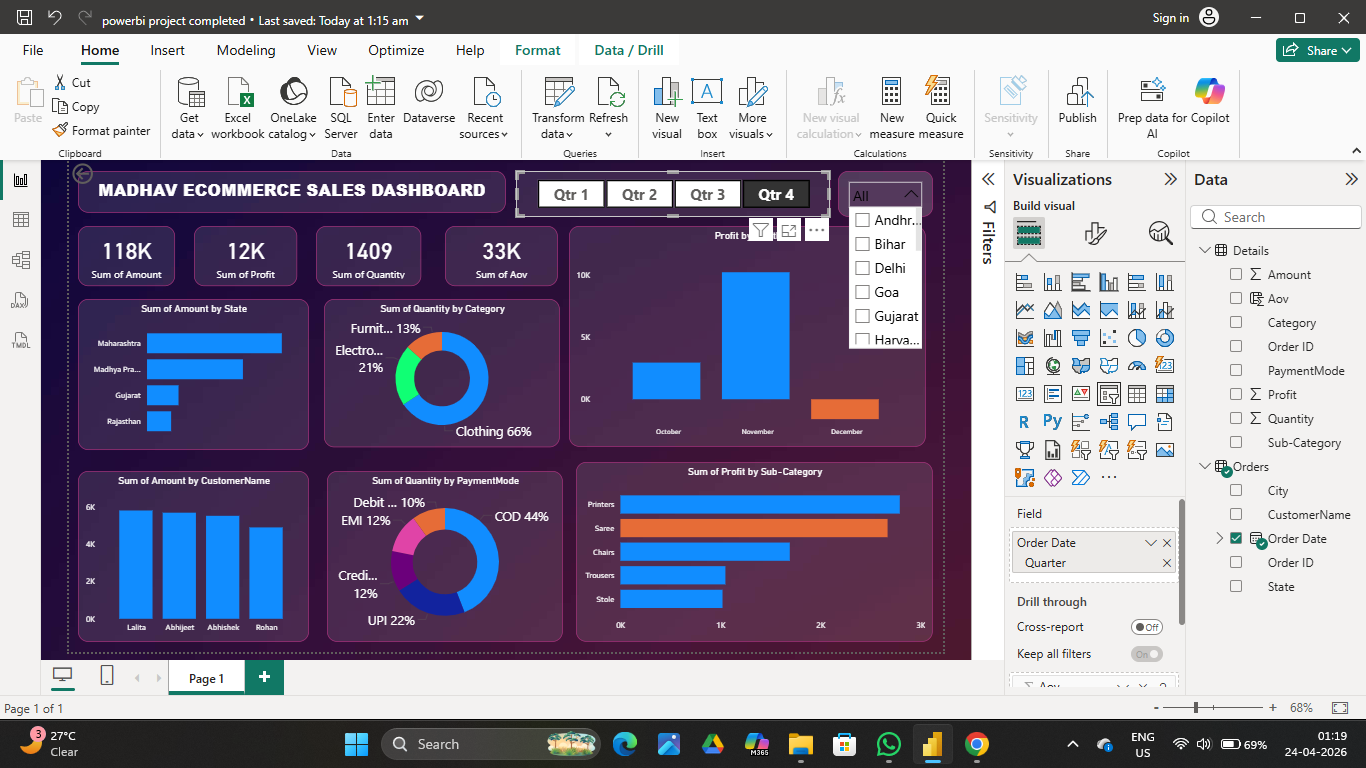

The page's visual inventory and layout, read from the dashboard file:
{"tool":"powerbi","page":{"name":"Page 1","canvas":[1280,720],"ordinal":0},"visuals":[{"type":"textbox","box":[13.2,16.1,626.3,61.5],"z":0},{"type":"columnChart","title":"Profit by Month","fields":{"Category":["Orders.Order Date.Variation.Date Hierarchy.Month"],"Y":["Sum(Details.Profit)"]},"box":[732,97,522.1,322.8],"z":1000},{"type":"barChart","fields":{"Category":["Details.Sub-Category"],"Y":["Sum(Details.Profit)"]},"box":[742,442,522.4,263.4],"z":2000},{"type":"donutChart","fields":{"Category":["Details.Category"],"Y":["Sum(Details.Quantity)"]},"box":[373.2,203.4,345.4,216.6],"z":3000},{"type":"donutChart","fields":{"Category":["Details.PaymentMode","Details.Category"],"Y":["Sum(Details.Quantity)"]},"box":[377.6,455.1,345.4,250.2],"z":4000},{"type":"card","fields":{"Values":["Sum(Details.Amount)"]},"box":[13.2,96.6,142,87.8],"z":5000},{"type":"card","fields":{"Values":["Sum(Details.Quantity)"]},"box":[361.5,96.6,153.7,87.8],"z":6000},{"type":"card","fields":{"Values":["Sum(Details.Profit)"]},"box":[182.9,96.6,150.7,87.8],"z":7000},{"type":"card","fields":{"Values":["Sum(Details.Aov)"]},"box":[550.2,96.6,165.4,87.8],"z":8000},{"type":"actionButton","box":[0,0,100,40],"z":9000},{"type":"barChart","fields":{"Category":["Orders.State"],"Y":["Sum(Details.Amount)"]},"box":[13.2,203.4,338,221],"z":10000},{"type":"columnChart","fields":{"Category":["Orders.CustomerName"],"Y":["Sum(Details.Amount)"]},"box":[13.2,455.1,338,250.2],"z":11000},{"type":"slicer","fields":{"Values":["Orders.Order Date.Variation.Date Hierarchy.Quarter"]},"box":[654.1,16.1,459.5,67.3],"z":12000},{"type":"slicer","fields":{"Values":["Orders.State"]},"box":[1125.4,16.1,139,67.3],"z":13000}]}

Visuals, with their boxes on the page's 1280x720 design canvas (x1, y1, x2, y2). These are canvas units, not pixel positions in the 1366x768 screenshot, which may show the page scaled, cropped or inside an application window:
textbox: (13,16,640,78)
"Profit by Month" columnChart: (732,97,1254,420)
barChart - Details.Sub-Category x Sum(Details.Profit): (742,442,1264,705)
donutChart - Details.Category x Sum(Details.Quantity): (373,203,719,420)
donutChart - Details.PaymentMode x Details.Category: (378,455,723,705)
card - Sum(Details.Amount): (13,97,155,184)
card - Sum(Details.Quantity): (362,97,515,184)
card - Sum(Details.Profit): (183,97,334,184)
card - Sum(Details.Aov): (550,97,716,184)
actionButton: (0,0,100,40)
barChart - Orders.State x Sum(Details.Amount): (13,203,351,424)
columnChart - Orders.CustomerName x Sum(Details.Amount): (13,455,351,705)
slicer - Orders.Order Date.Variation.Date Hierarchy.Quarter: (654,16,1114,83)
slicer - Orders.State: (1125,16,1264,83)
